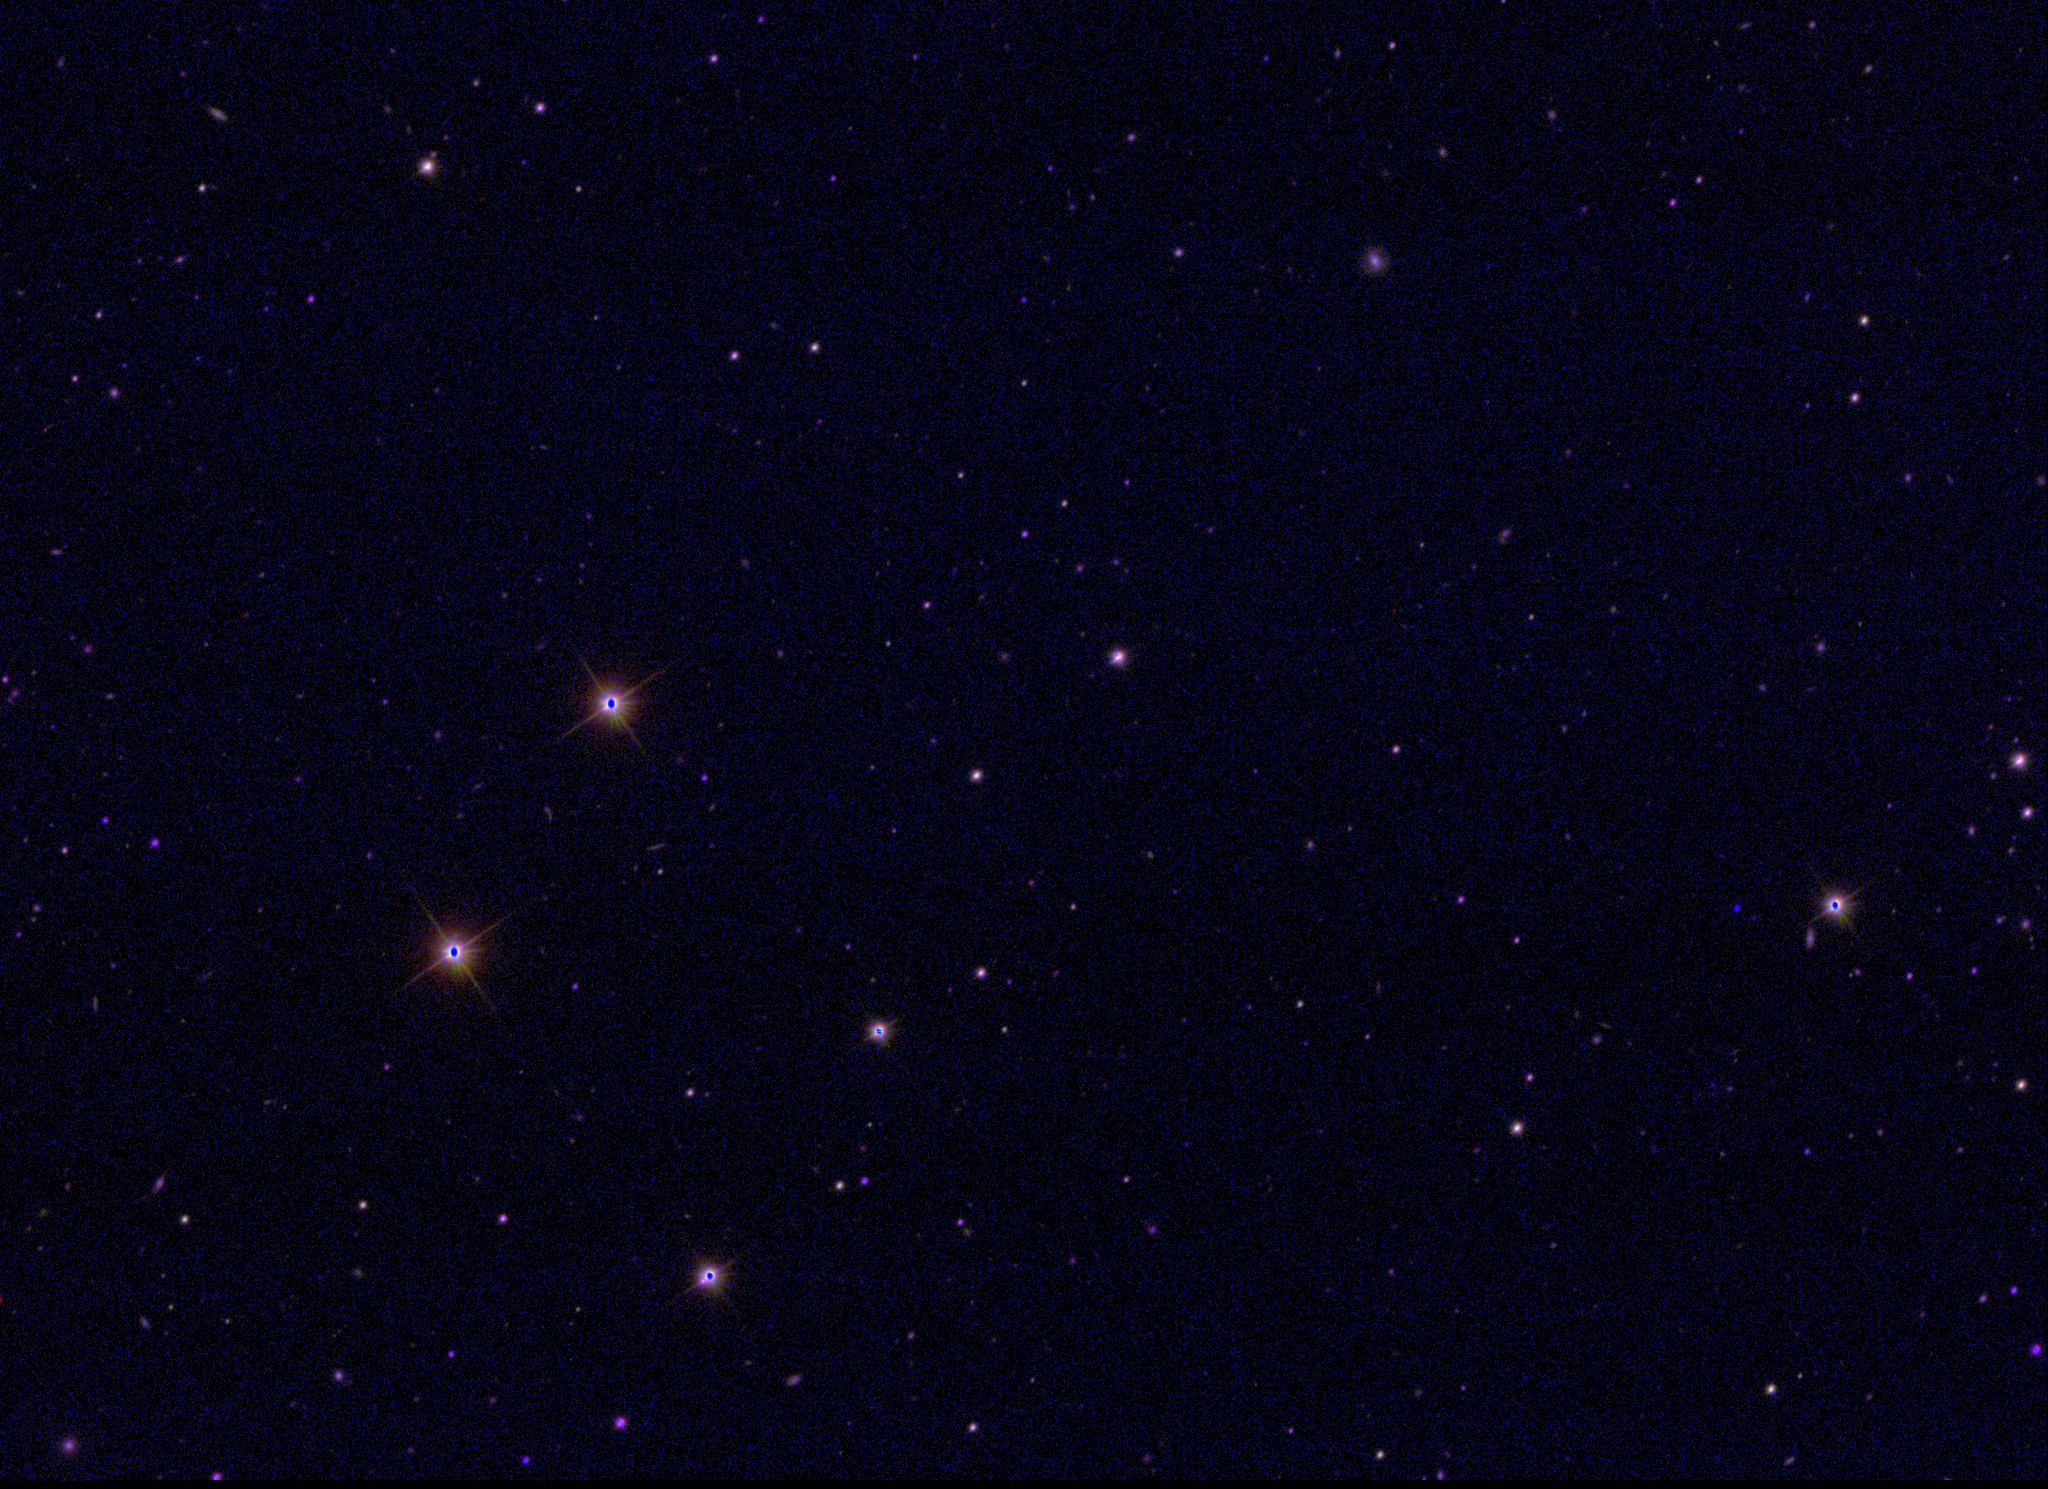L: (1732, 904, 1746, 918)
